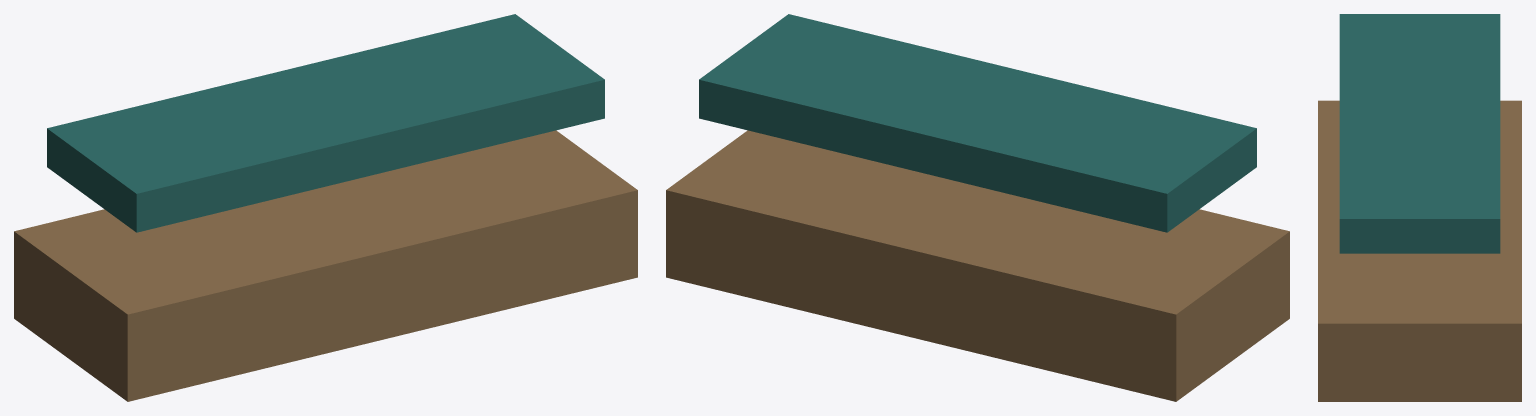
The picture shows the model from 3 angles, left to right: view 1: azimuth 30°, elevation 25°; view 2: azimuth 150°, elevation 25°; view 3: azimuth 270°, elevation 25°; orthographic projection. The views are drawn at different scales.
Visible parts, largest first — view 1: root_pal_khakiSeam, root_pal_backpackTeal; view 2: root_pal_khakiSeam, root_pal_backpackTeal; view 3: root_pal_backpackTeal, root_pal_khakiSeam.
Part boxes in pixels (box(x1,y1,x2,y2)): root_pal_khakiSeam: box(14, 130, 637, 401); root_pal_backpackTeal: box(47, 14, 604, 232); root_pal_khakiSeam: box(666, 130, 1289, 401); root_pal_backpackTeal: box(699, 14, 1256, 232); root_pal_backpackTeal: box(1339, 14, 1500, 253); root_pal_khakiSeam: box(1318, 100, 1521, 401).
Bounding box in the file's own units: 2.2 × 0.8 × 0.85.
